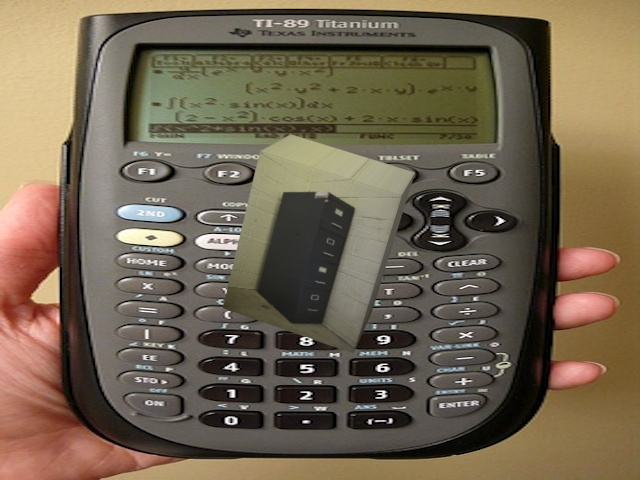file_cabinet: (217, 128, 417, 360)
